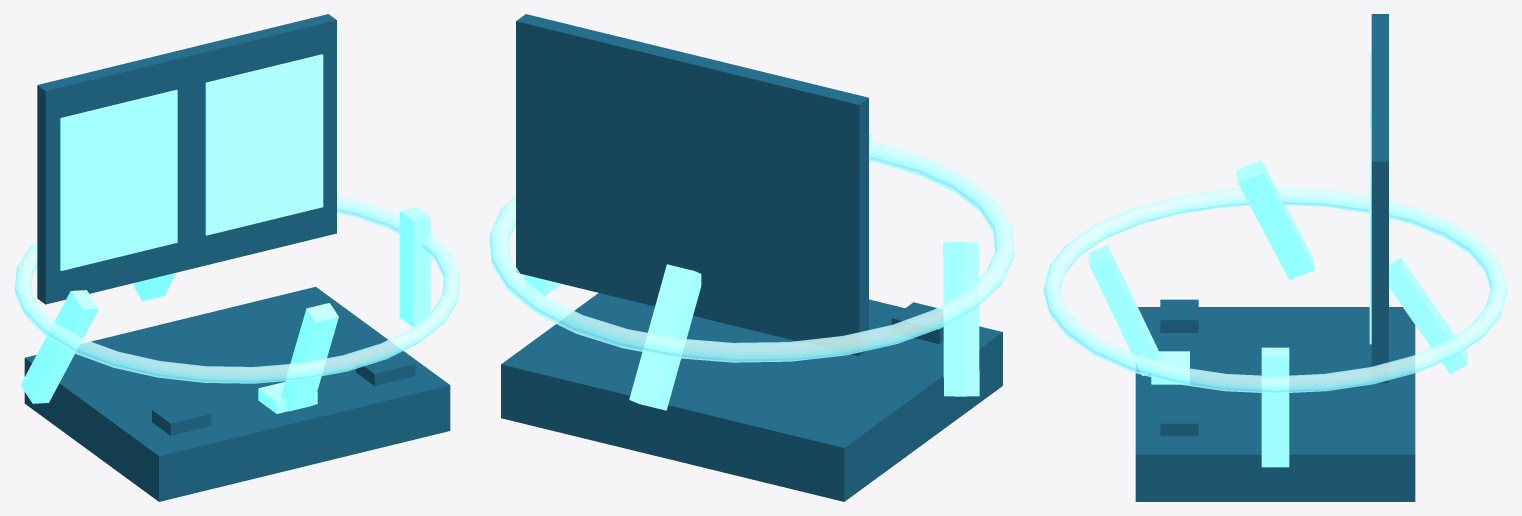
File: miranda-cockpit-console.collider.glb
3 views of the same model, side by side, from view 1: azimuth 30°, elevation 25°; view 2: azimuth 150°, elevation 25°; view 3: azimuth 270°, elevation 25° (orthographic). The views are drawn at different scales.
Visible parts, largest first — view 1: command-console-body, screen-0.5, screen--0.5, command-console-emissive, command-console-transparent|#84dfff|#84dfff|0.46|1|0.03|0.82; view 2: command-console-body, command-console-transparent|#84dfff|#84dfff|0.46|1|0.03|0.82, command-console-emissive; view 3: command-console-body, command-console-transparent|#84dfff|#84dfff|0.46|1|0.03|0.82, command-console-emissive, screen-0.5.
Boxes of the visible parts, x1,y1,x2,y2 form: command-console-body: (24, 14, 450, 501); screen-0.5: (205, 54, 323, 235); screen--0.5: (60, 89, 177, 270); command-console-emissive: (20, 207, 430, 413); command-console-transparent|#84dfff|#84dfff|0.46|1|0.03|0.82: (14, 196, 460, 383); command-console-body: (501, 14, 1002, 501); command-console-transparent|#84dfff|#84dfff|0.46|1|0.03|0.82: (489, 141, 1014, 362); command-console-emissive: (524, 135, 979, 410); command-console-body: (1135, 14, 1415, 501); command-console-transparent|#84dfff|#84dfff|0.46|1|0.03|0.82: (1043, 187, 1507, 393); command-console-emissive: (1088, 160, 1467, 467); screen-0.5: (1369, 127, 1371, 344).
Size of the model in its own units: 2.7 by 2.15 by 2.66.
